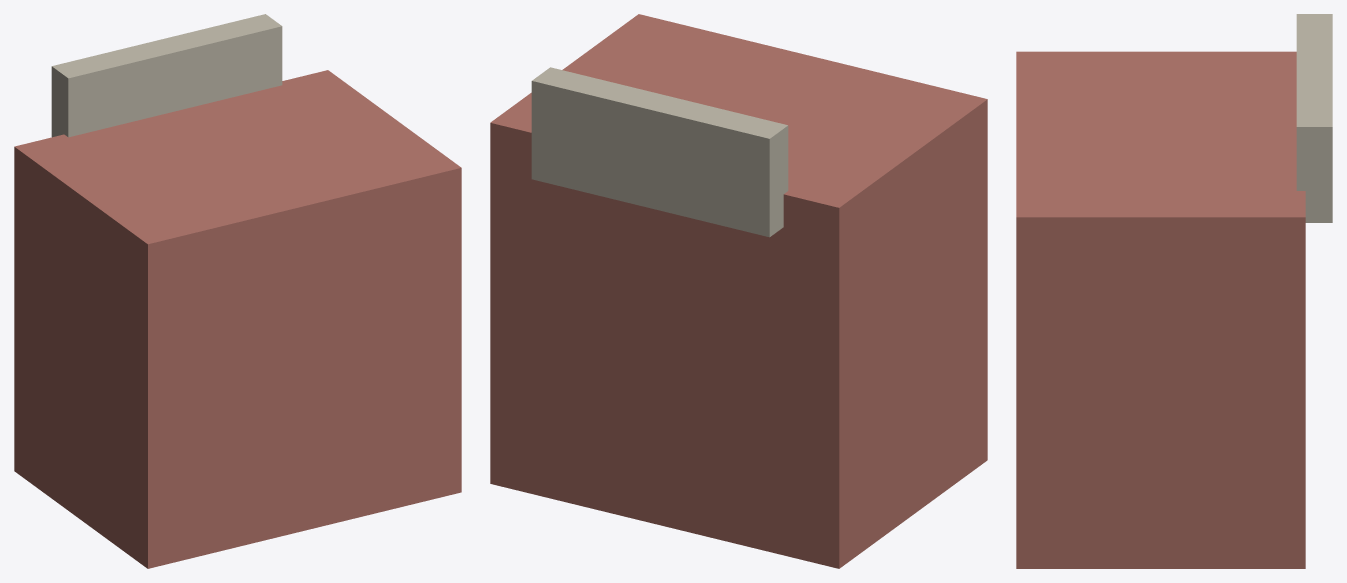
File: iz2_item_thermos.glb
The picture shows the model from 3 angles, left to right: view 1: azimuth 30°, elevation 25°; view 2: azimuth 150°, elevation 25°; view 3: azimuth 270°, elevation 25°; orthographic projection. The views are drawn at different scales.
Visible parts, largest first — view 1: body; view 2: body; view 3: body.
Part boxes in pixels (<box>): body: <box>14,14,461,568</box>; body: <box>490,14,987,568</box>; body: <box>1016,14,1332,568</box>.
Bounding box in the file's own units: 0.2181 × 0.2548 × 0.1759.
